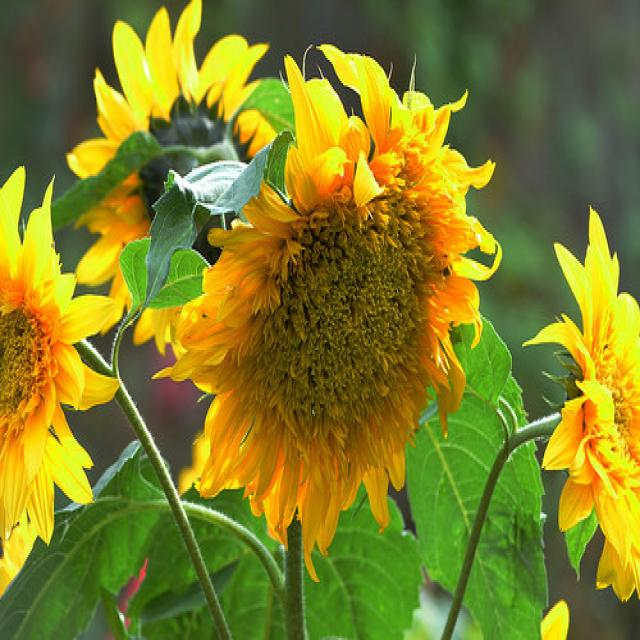sunflower: (175, 39, 502, 574), (66, 0, 294, 364), (0, 151, 125, 615), (531, 203, 640, 625)
